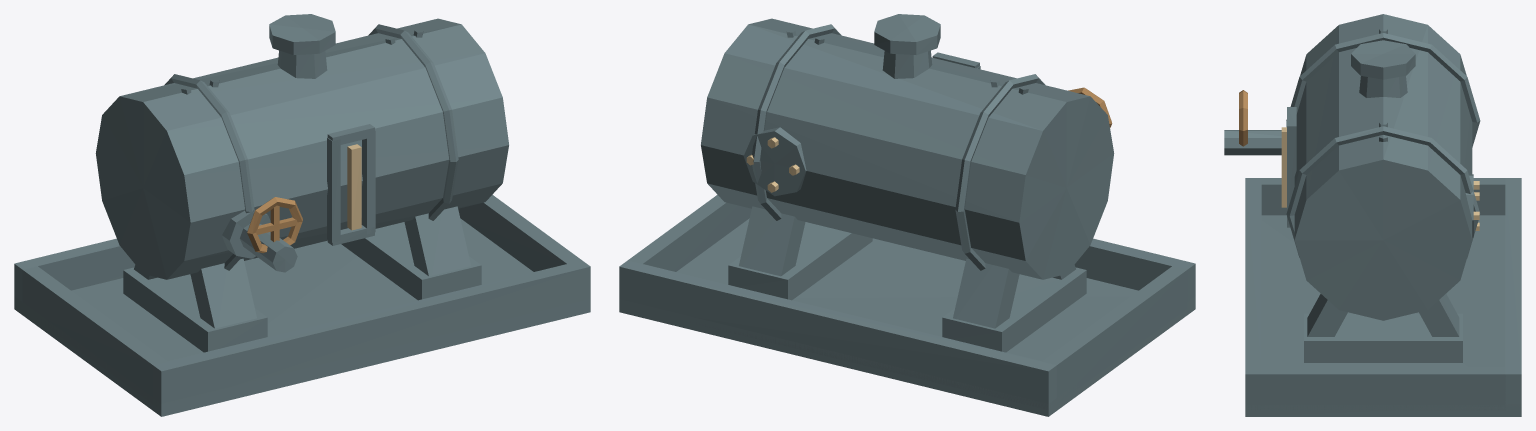
The model's file is fuel-tank.source.glb.
3 views of the same model, side by side, from view 1: azimuth 30°, elevation 25°; view 2: azimuth 150°, elevation 25°; view 3: azimuth 270°, elevation 25° (orthographic). The views are drawn at different scales.
Visible parts, largest first — view 1: fuel-tank-tank-shell-mesh, fuel-tank-containment-floor-mesh, fuel-tank-containment-front-lip-mesh, fuel-tank-containment-left-lip-mesh, fuel-tank-cradle-1-base-mesh, fuel-tank-cradle-2-base-mesh, fuel-tank-containment-right-lip-mesh, fuel-tank-containment-rear-lip-mesh, fuel-tank-cradle-1-front-brace-mesh, fuel-tank-cradle-2-front-brace-mesh, fuel-tank-fill-cap-mesh, fuel-tank-support-band-2-mesh (+9 smaller); view 2: fuel-tank-tank-shell-mesh, fuel-tank-containment-floor-mesh, fuel-tank-containment-rear-lip-mesh, fuel-tank-containment-left-lip-mesh, fuel-tank-cradle-1-base-mesh, fuel-tank-cradle-2-base-mesh, fuel-tank-containment-right-lip-mesh, fuel-tank-containment-front-lip-mesh, fuel-tank-cradle-1-rear-brace-mesh, fuel-tank-cradle-2-rear-brace-mesh, fuel-tank-service-hatch-plate-mesh, fuel-tank-fill-cap-mesh (+3 smaller); view 3: fuel-tank-tank-shell-mesh, fuel-tank-containment-floor-mesh, fuel-tank-containment-right-lip-mesh, fuel-tank-cradle-2-base-mesh, fuel-tank-containment-front-lip-mesh, fuel-tank-containment-rear-lip-mesh, fuel-tank-support-band-2-mesh, fuel-tank-support-band-1-mesh, fuel-tank-fill-cap-mesh, fuel-tank-containment-left-lip-mesh, fuel-tank-outlet-pipe-mesh, fuel-tank-cradle-2-rear-brace-mesh (+5 smaller).
Boxes of the visible parts, left/top/right/bottom form: fuel-tank-tank-shell-mesh: left=95, top=18, right=508, bottom=279; fuel-tank-containment-floor-mesh: left=14, top=218, right=590, bottom=416; fuel-tank-containment-front-lip-mesh: left=153, top=260, right=590, bottom=409; fuel-tank-containment-left-lip-mesh: left=22, top=266, right=167, bottom=403; fuel-tank-cradle-1-base-mesh: left=123, top=267, right=267, bottom=352; fuel-tank-cradle-2-base-mesh: left=341, top=222, right=481, bottom=300; fuel-tank-containment-right-lip-mesh: left=458, top=195, right=581, bottom=271; fuel-tank-containment-rear-lip-mesh: left=14, top=238, right=135, bottom=301; fuel-tank-cradle-1-front-brace-mesh: left=190, top=258, right=256, bottom=328; fuel-tank-cradle-2-front-brace-mesh: left=404, top=206, right=470, bottom=276; fuel-tank-fill-cap-mesh: left=269, top=14, right=335, bottom=54; fuel-tank-support-band-2-mesh: left=368, top=24, right=458, bottom=220; fuel-tank-tank-shell-mesh: left=701, top=18, right=1114, bottom=279; fuel-tank-containment-floor-mesh: left=619, top=218, right=1195, bottom=416; fuel-tank-containment-rear-lip-mesh: left=619, top=260, right=1056, bottom=409; fuel-tank-containment-left-lip-mesh: left=1042, top=266, right=1187, bottom=403; fuel-tank-cradle-1-base-mesh: left=942, top=267, right=1086, bottom=352; fuel-tank-cradle-2-base-mesh: left=728, top=222, right=872, bottom=300; fuel-tank-containment-right-lip-mesh: left=628, top=195, right=751, bottom=271; fuel-tank-containment-front-lip-mesh: left=1074, top=238, right=1195, bottom=301; fuel-tank-cradle-1-rear-brace-mesh: left=953, top=258, right=1019, bottom=328; fuel-tank-cradle-2-rear-brace-mesh: left=739, top=206, right=805, bottom=276; fuel-tank-service-hatch-plate-mesh: left=743, top=127, right=806, bottom=196; fuel-tank-fill-cap-mesh: left=874, top=14, right=940, bottom=54; fuel-tank-tank-shell-mesh: left=1294, top=14, right=1472, bottom=320; fuel-tank-containment-floor-mesh: left=1245, top=215, right=1521, bottom=416; fuel-tank-containment-right-lip-mesh: left=1261, top=367, right=1505, bottom=410; fuel-tank-cradle-2-base-mesh: left=1304, top=313, right=1462, bottom=362; fuel-tank-containment-front-lip-mesh: left=1245, top=178, right=1261, bottom=410; fuel-tank-containment-rear-lip-mesh: left=1505, top=178, right=1521, bottom=410; fuel-tank-support-band-2-mesh: left=1286, top=126, right=1480, bottom=257; fuel-tank-support-band-1-mesh: left=1286, top=33, right=1480, bottom=147; fuel-tank-fill-cap-mesh: left=1351, top=40, right=1415, bottom=79; fuel-tank-containment-left-lip-mesh: left=1261, top=178, right=1505, bottom=215; fuel-tank-outlet-pipe-mesh: left=1224, top=130, right=1281, bottom=155; fuel-tank-cradle-2-rear-brace-mesh: left=1419, top=294, right=1459, bottom=336.
Size of the model in its own units: 3.45 by 2.17 by 2.2.
